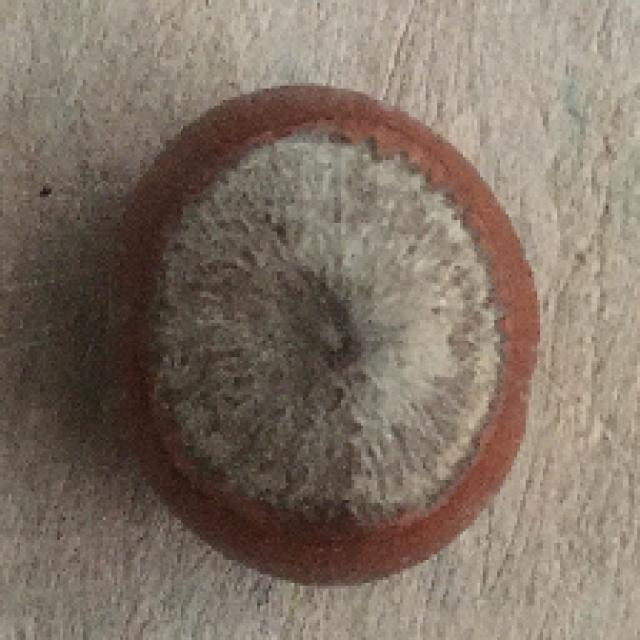QualityHazelnut: (102, 80, 542, 591)
